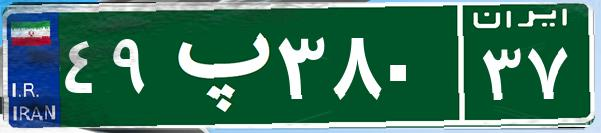0: (385, 28, 445, 110)
3: (273, 28, 330, 110), (475, 38, 525, 113)
4: (57, 26, 110, 107)
7: (525, 38, 570, 115)
8: (330, 28, 385, 110)
9: (110, 28, 158, 105)
پ: (158, 15, 273, 115)
